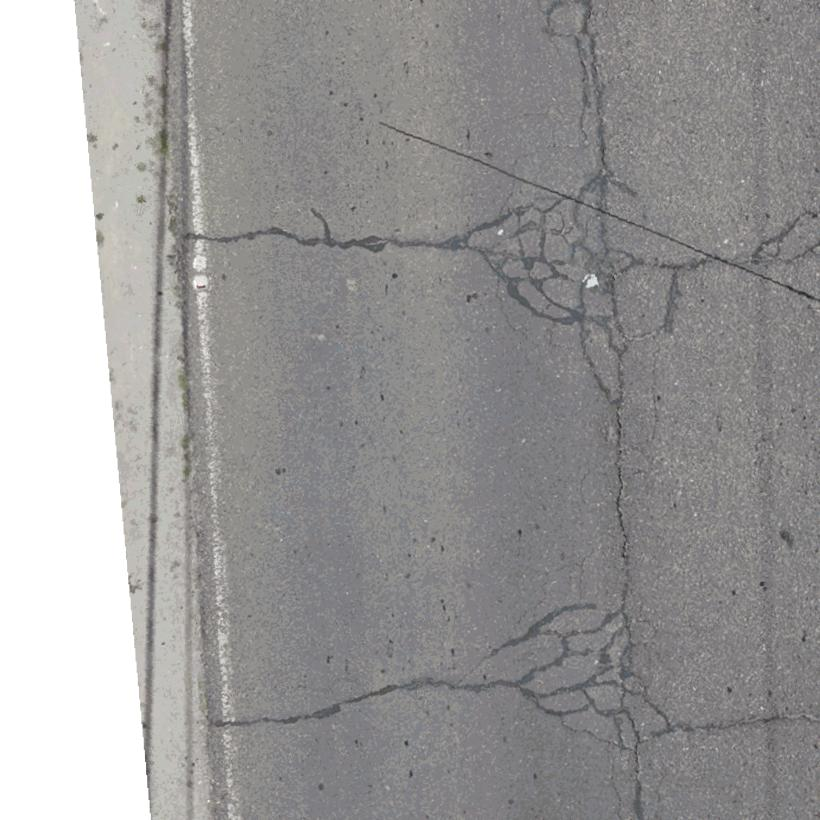GRIETA: (208, 676, 453, 728), (182, 226, 460, 253), (379, 121, 507, 175), (544, 26, 590, 138), (582, 0, 607, 139), (677, 713, 819, 732), (616, 407, 629, 558), (691, 255, 750, 269), (309, 207, 331, 237)
PIEL DE COCODRILO: (460, 137, 694, 411), (451, 558, 677, 819), (750, 201, 819, 310)
